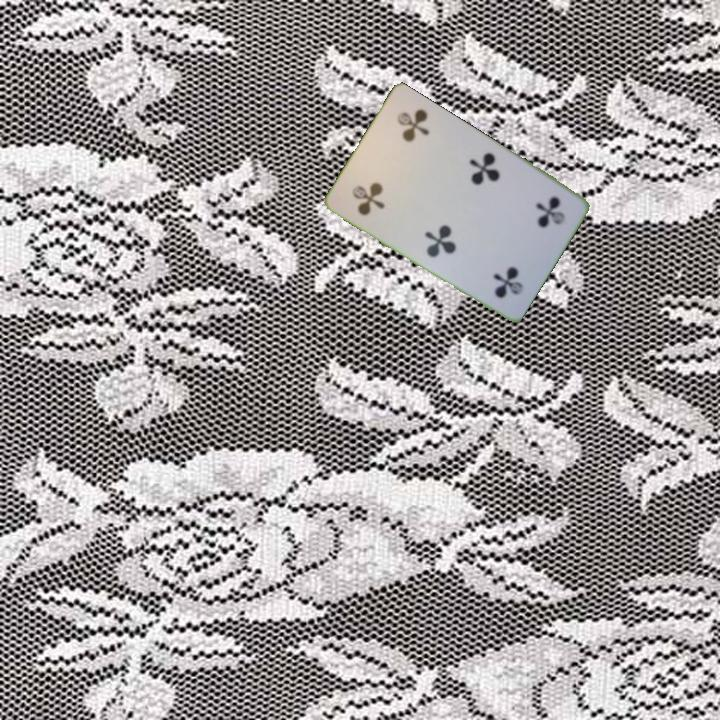c_6.png: (334, 146, 417, 231), (497, 175, 579, 261)
